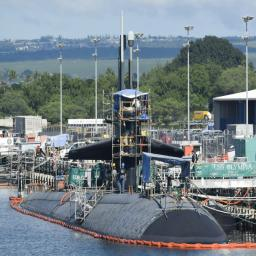submarine: (18, 15, 231, 242)
